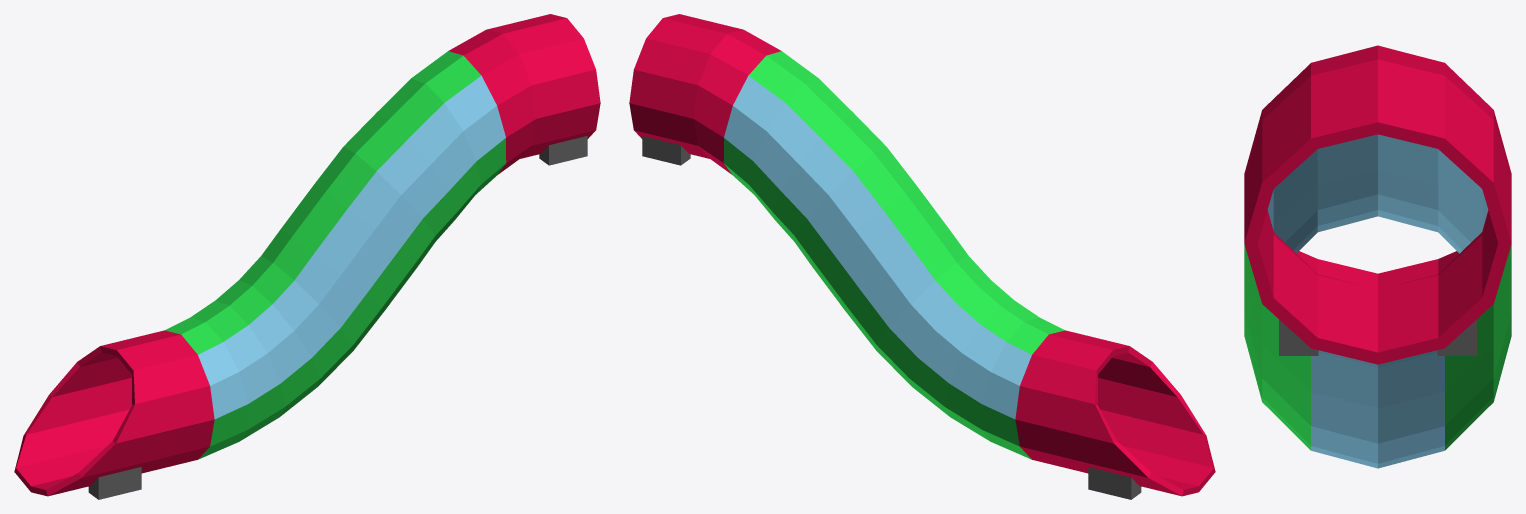
Rendered from Slide 1.fbx.
The picture shows the model from 3 angles, left to right: view 1: azimuth 30°, elevation 25°; view 2: azimuth 150°, elevation 25°; view 3: azimuth 270°, elevation 25°; orthographic projection. The views are drawn at different scales.
Visible parts, largest first — view 1: Slide 1; view 2: Slide 1; view 3: Slide 1.
Part boxes in pixels (x1,y1,x2,y2): Slide 1: [14, 14, 600, 499]; Slide 1: [629, 14, 1215, 499]; Slide 1: [1244, 45, 1511, 468].
Size of the model in its own units: 2500 by 1530 by 540.
